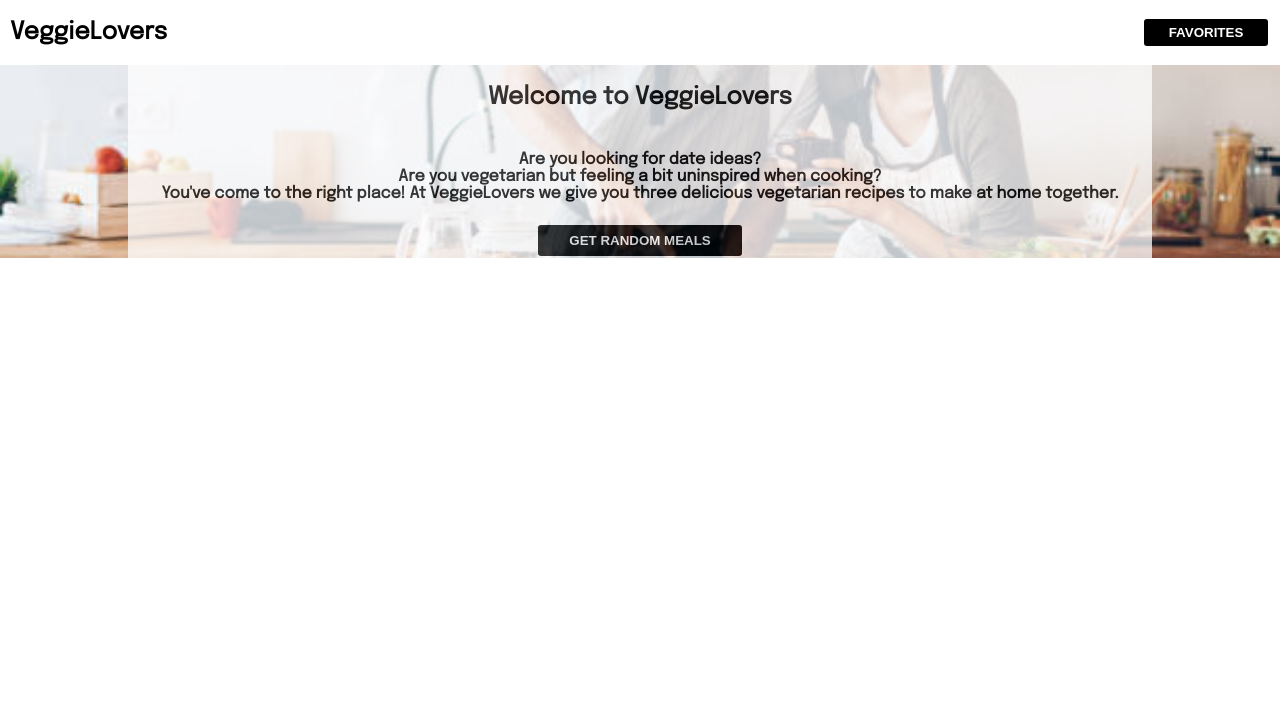
Scenario: Home Page › should display 3 recipe ideas on click
What coordinates should you click on to do the following:
click the button "get random meals"
I would click on:
 (640, 241)
Its box is left=536, top=223, right=744, bottom=258.
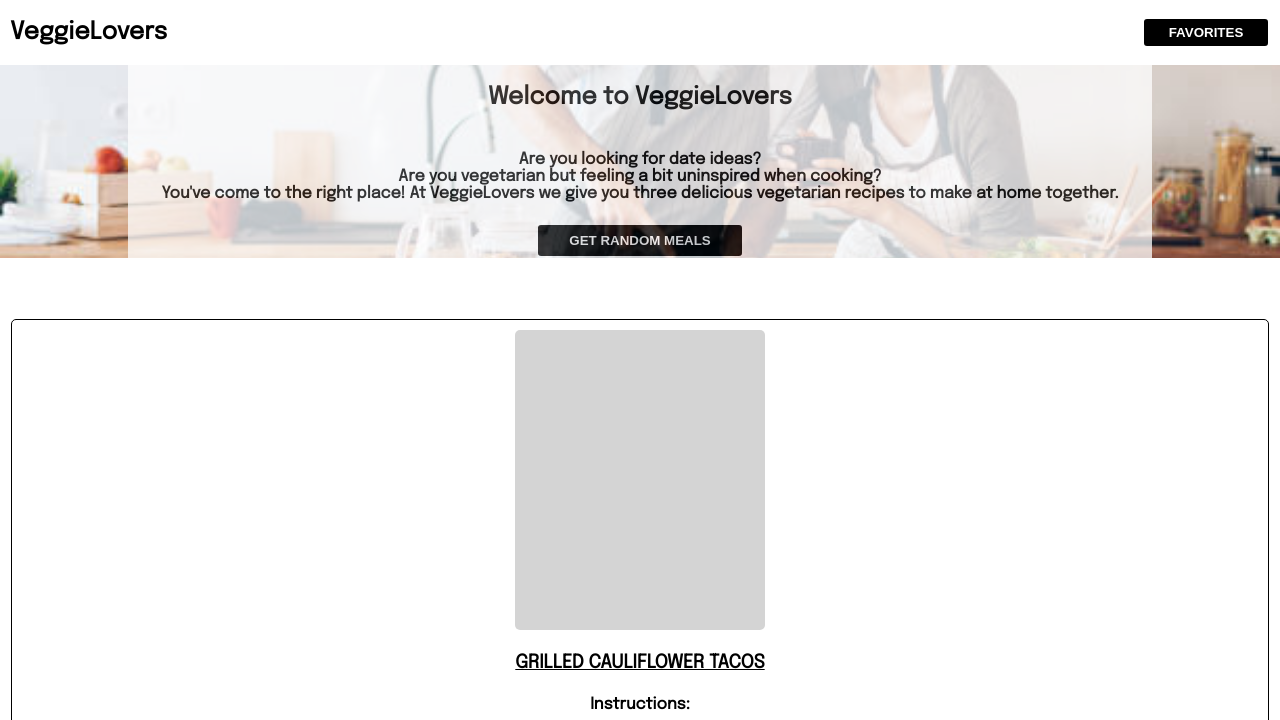
Expected: the number of elements with class "meal-card" is 3
